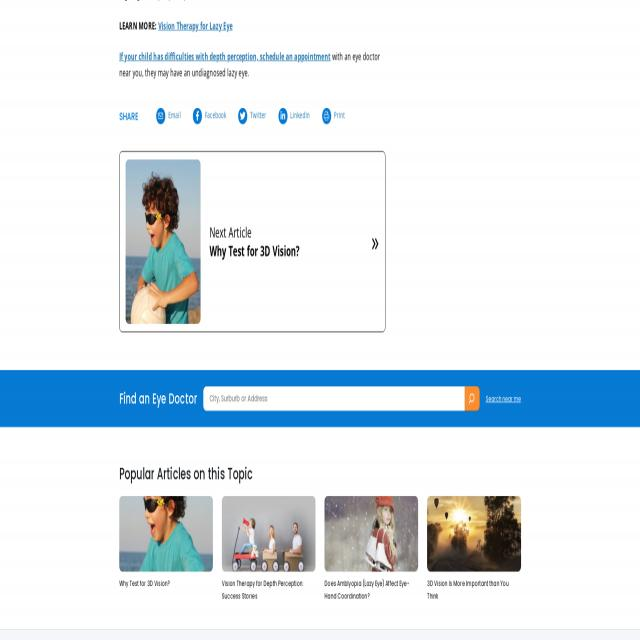button: (126, 160, 200, 323), (119, 496, 213, 572), (324, 496, 418, 572), (427, 496, 521, 572), (222, 496, 315, 572), (464, 386, 480, 412), (158, 111, 164, 121), (240, 111, 246, 121), (280, 111, 286, 121), (324, 111, 330, 121), (195, 111, 200, 121)
field: (203, 386, 464, 412)
